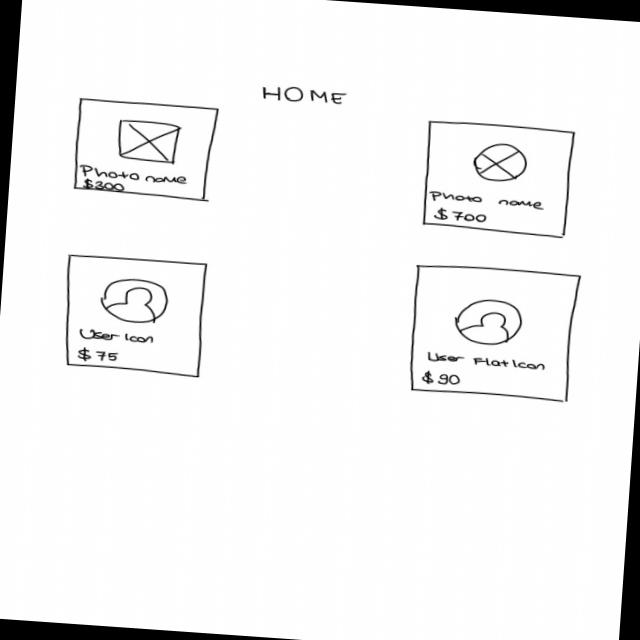container: (406, 261, 585, 405), (418, 119, 581, 241), (59, 253, 212, 381), (69, 96, 222, 204)
image: (452, 296, 526, 348), (101, 277, 172, 326), (115, 118, 182, 166), (472, 141, 532, 186)
label: (429, 189, 548, 214), (425, 351, 551, 372), (79, 164, 192, 187), (260, 83, 351, 109), (79, 329, 158, 347), (435, 207, 489, 226), (78, 347, 122, 366), (423, 370, 463, 388), (80, 179, 127, 193)
